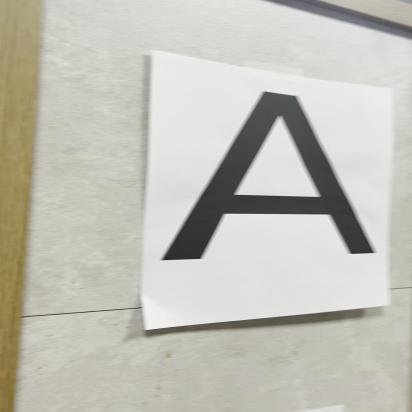seat: (150, 81, 386, 279)
